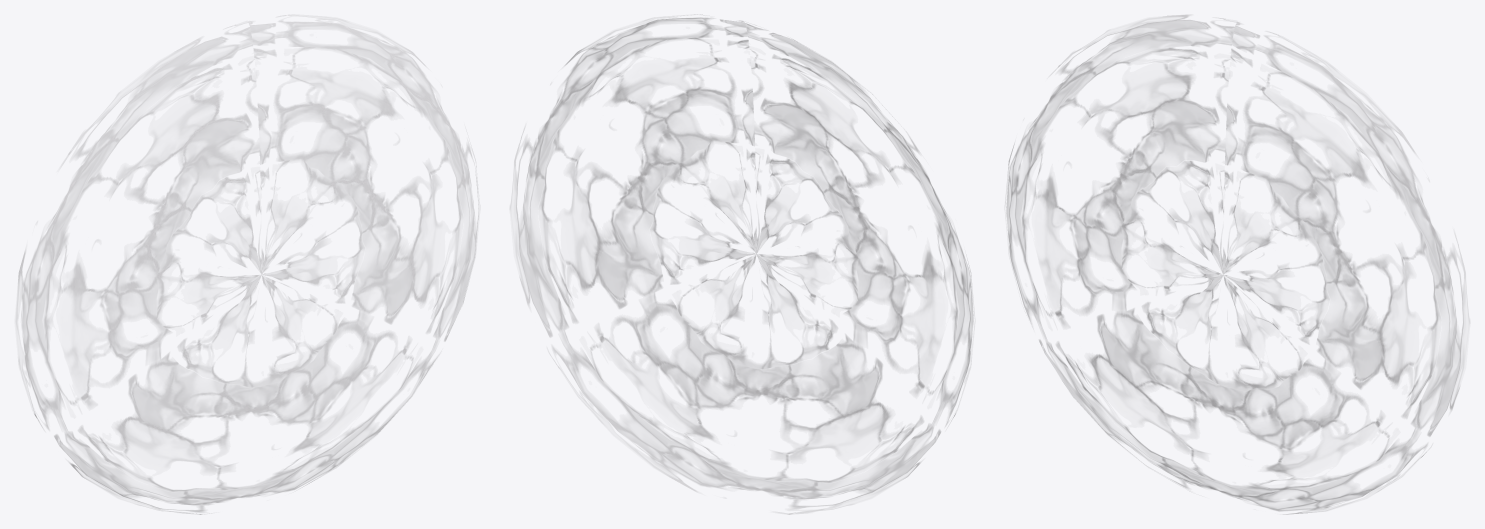
File: stargate_portal01.FBX
3 views of the same model, side by side, from view 1: azimuth 30°, elevation 25°; view 2: azimuth 150°, elevation 25°; view 3: azimuth 330°, elevation 25° (orthographic).
Parts seen in each view (by area): view 1: stargate; view 2: stargate; view 3: stargate.
Part boxes in pixels (<box>): stargate: <box>17,14,478,514</box>; stargate: <box>514,14,973,514</box>; stargate: <box>1006,15,1465,514</box>.
Size of the model in its own units: 126 by 126 by 6.64.
